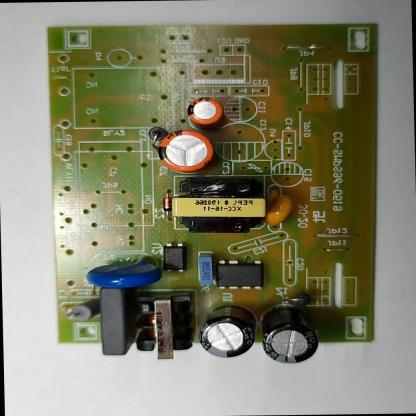Cap1: (158, 129, 216, 171)
Cap2: (184, 95, 224, 128)
Cap3: (198, 302, 257, 360)
Cap4: (258, 302, 320, 365)
MOSFET: (214, 257, 264, 291)
Mov: (84, 253, 164, 288)
Resistor: (67, 298, 102, 324)
Transformer: (170, 174, 266, 233), (130, 290, 196, 360)
